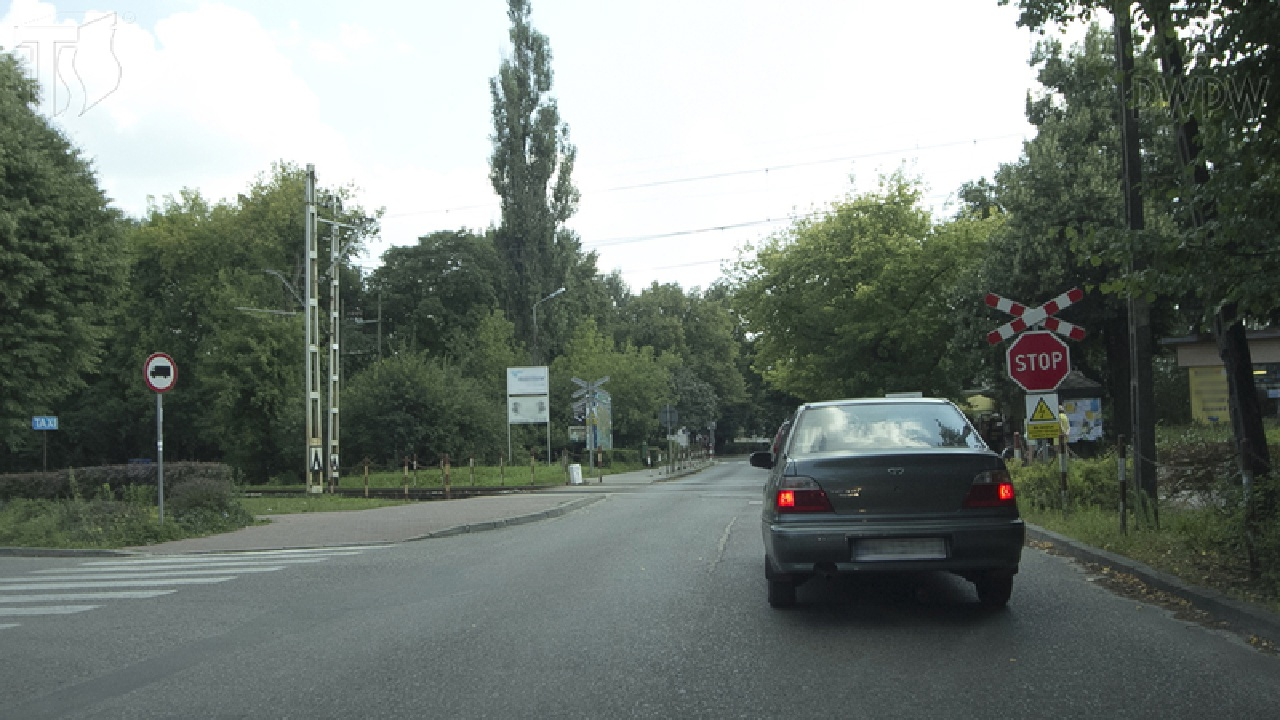B20: (1005, 331, 1071, 394)
